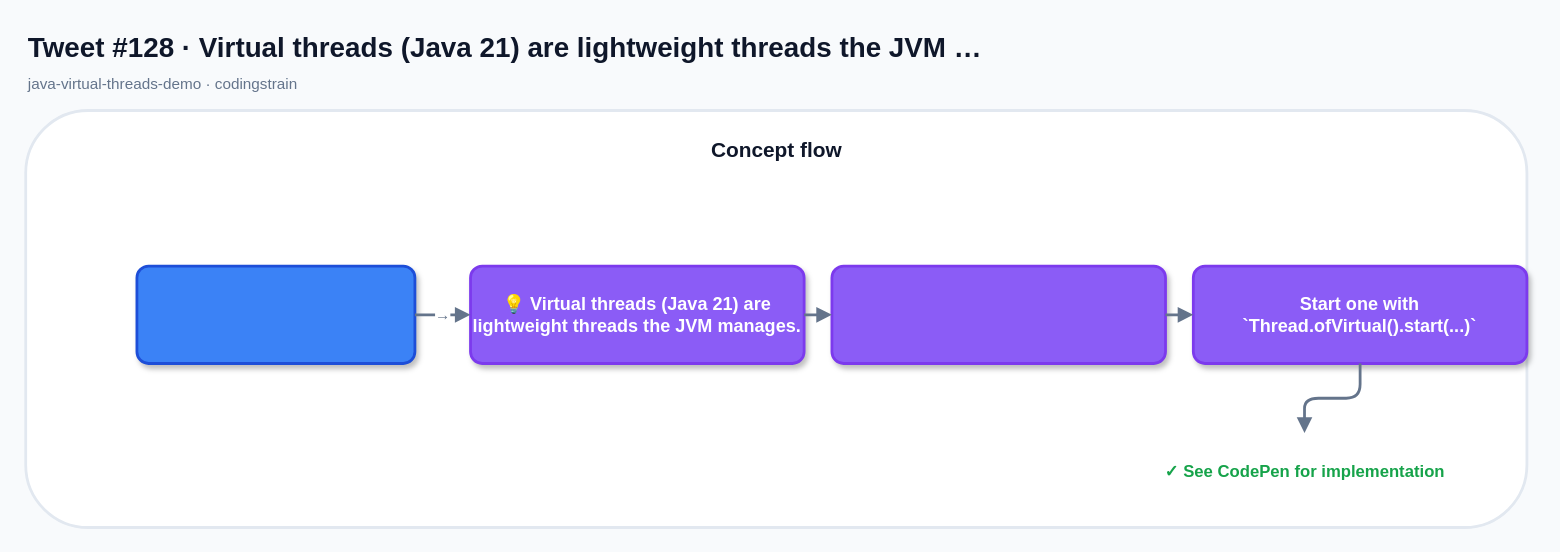
This 1560x552 diagram has some shape labels left out. Here are the shapes that lost their labels. From the top down, the centre of each, then its label:
the point at 276,316: Problem / context
the point at 999,316: Not 1:1 with OS threads — cheap to create by the thousands
